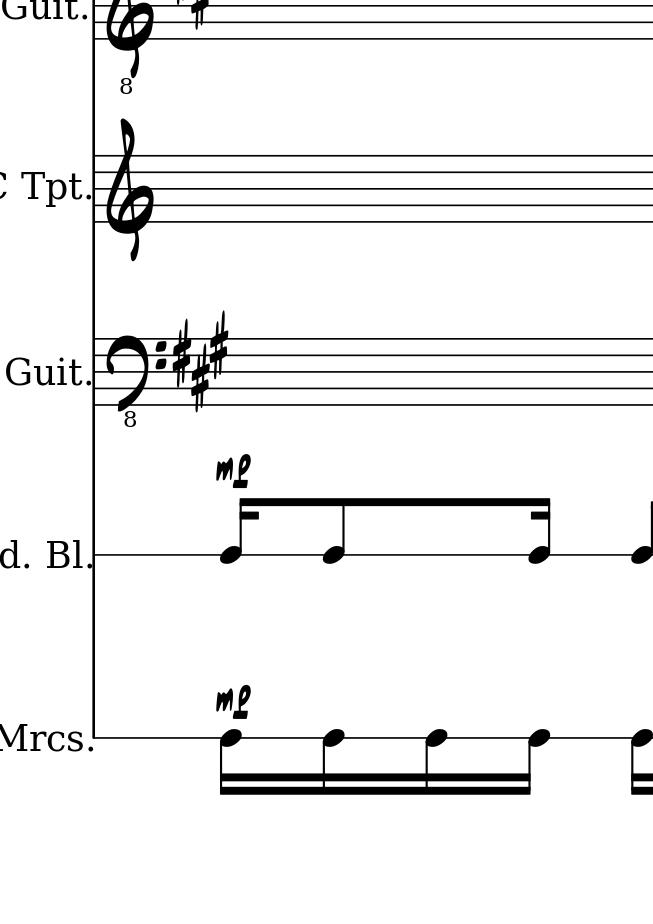16_4: (219, 496, 260, 565), (522, 727, 550, 798), (218, 729, 242, 798), (320, 727, 344, 796), (423, 729, 447, 798), (529, 496, 552, 565), (629, 727, 652, 796)
8_4: (319, 497, 347, 565)
Gclef: (105, 115, 154, 261)
Guit: (11, 355, 76, 393)
Lower_Fclef: (109, 333, 166, 427)
Single_barline: (87, 155, 100, 223), (88, 339, 100, 405)
Tpt: (19, 165, 78, 212)
mp: (214, 454, 255, 491), (215, 683, 256, 720)
